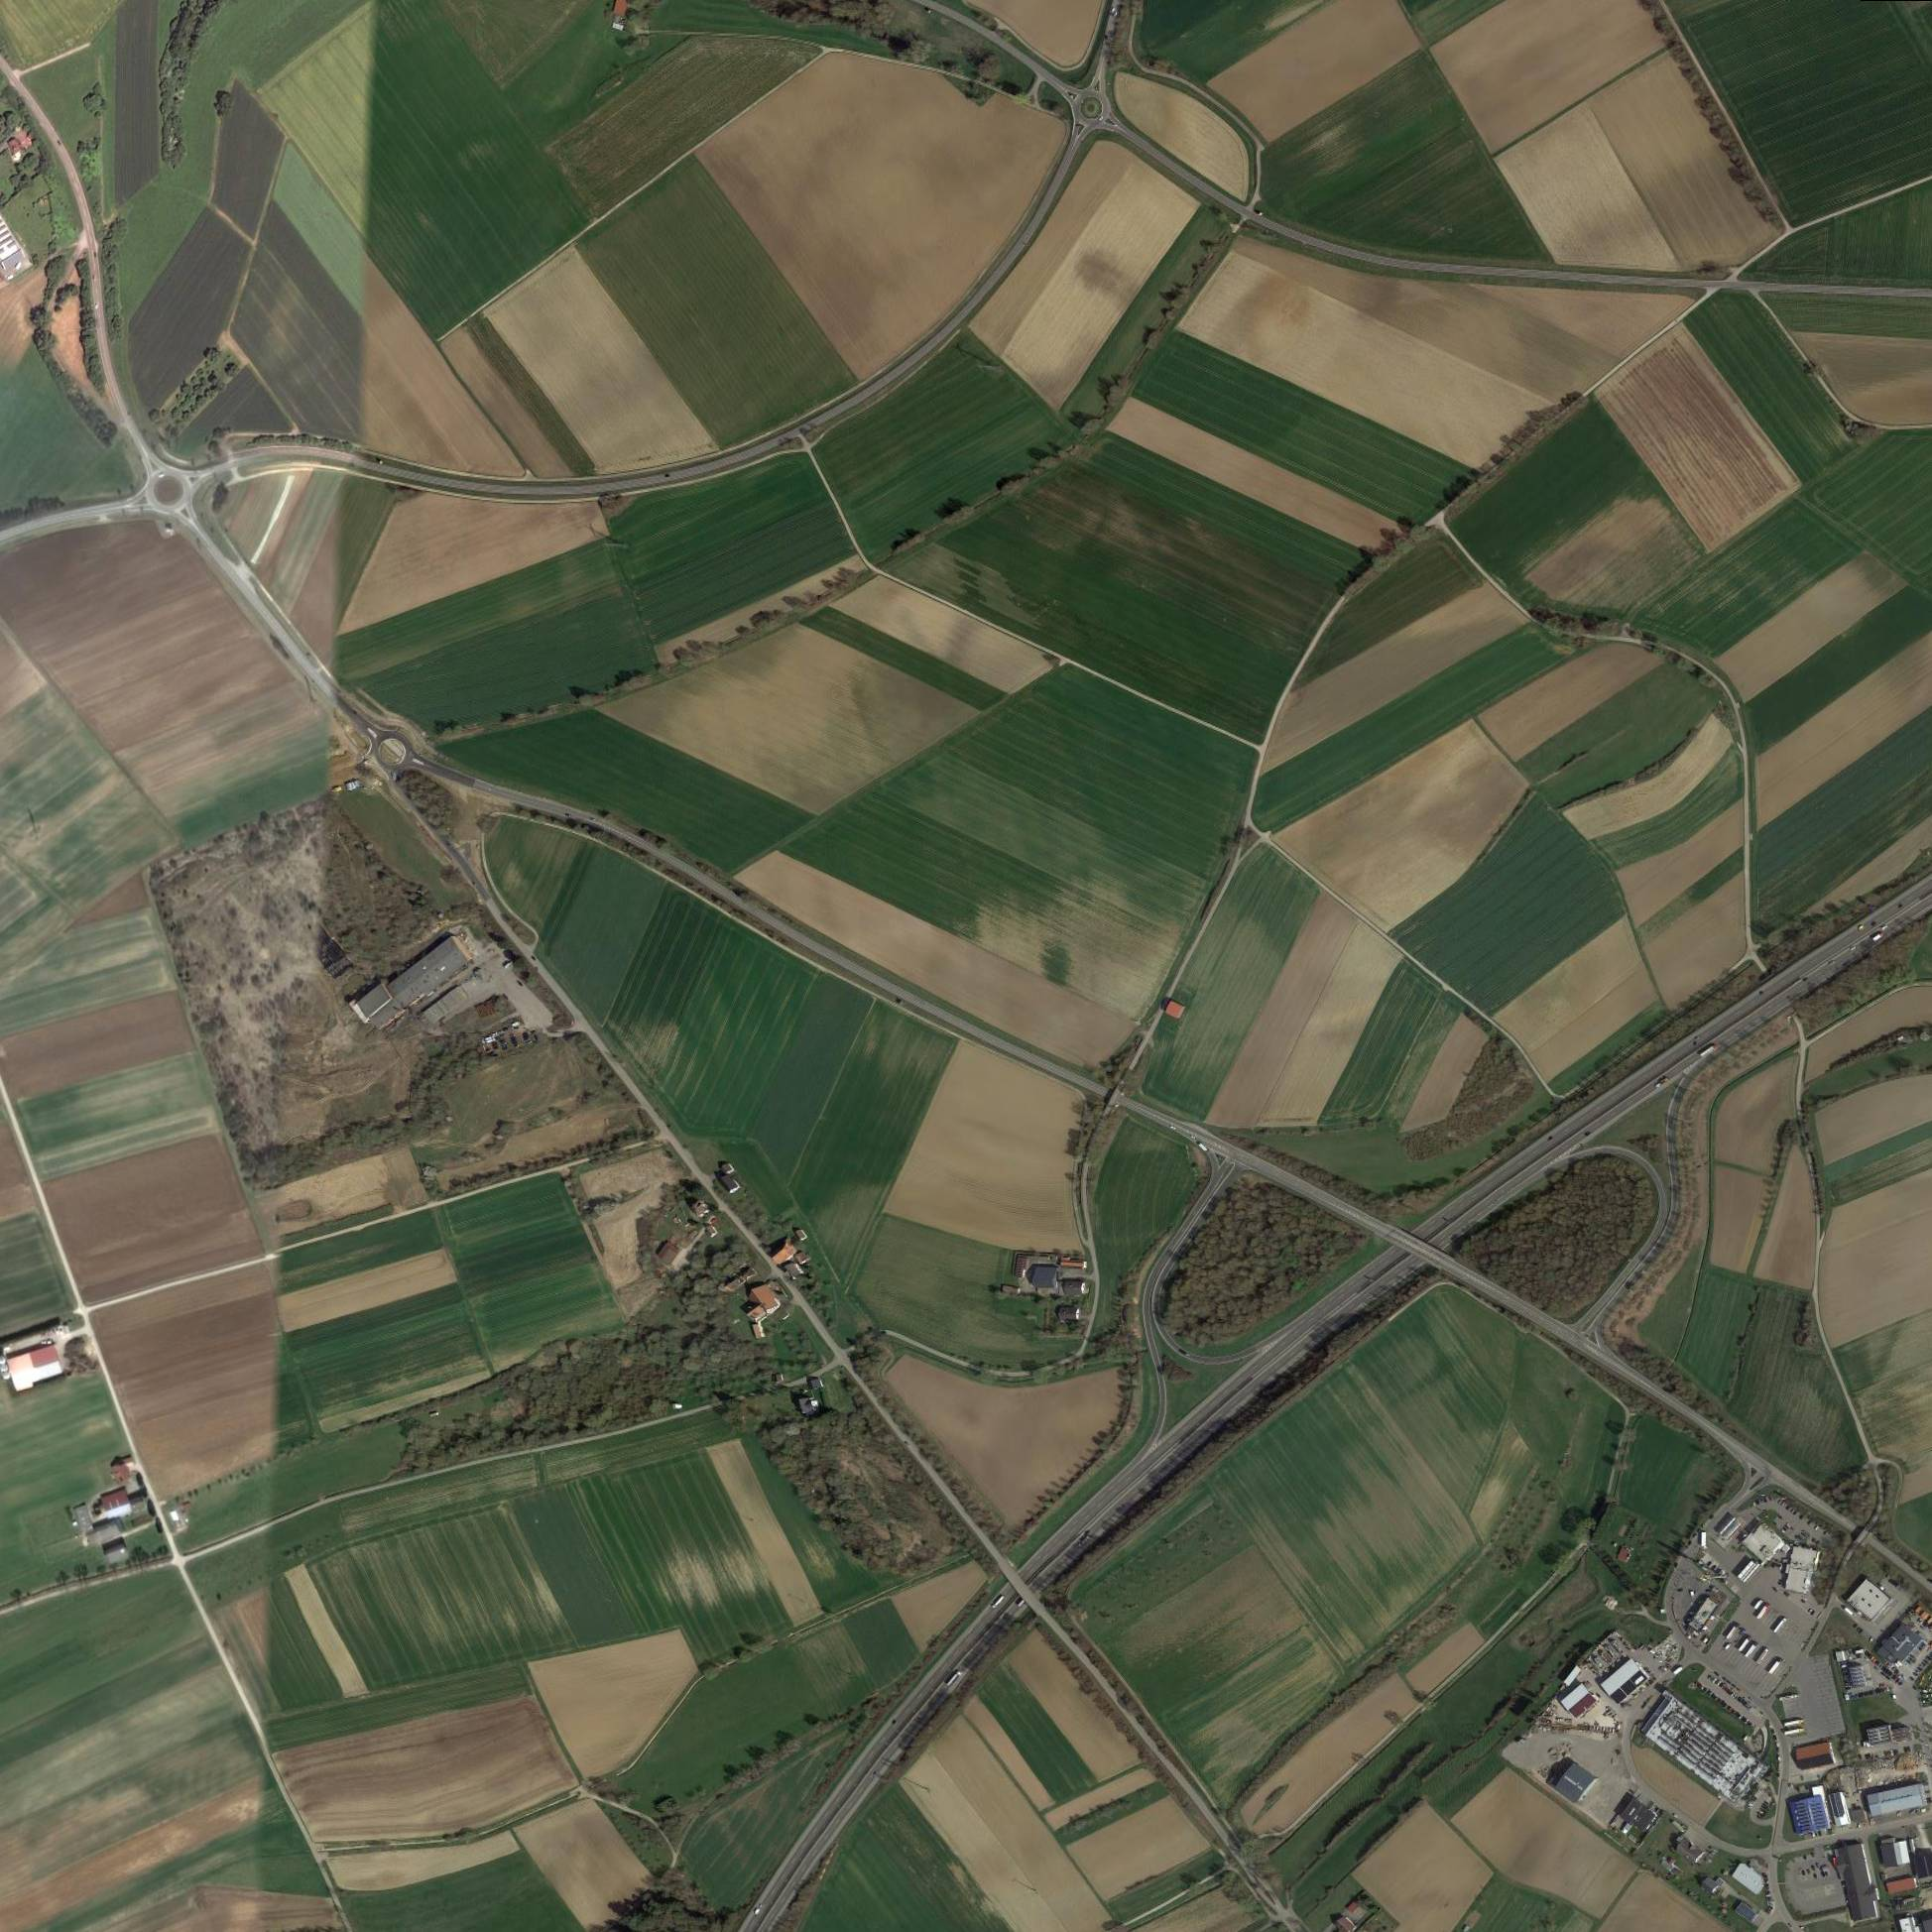roundabout: (142, 471, 191, 513), (1072, 87, 1113, 127), (373, 731, 412, 771)
